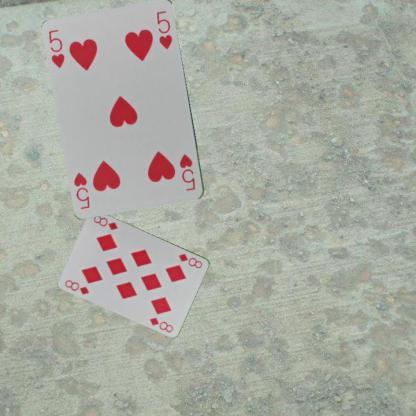5h: (46, 27, 66, 69), (177, 152, 197, 192)
8d: (62, 277, 91, 296), (176, 251, 204, 270)
